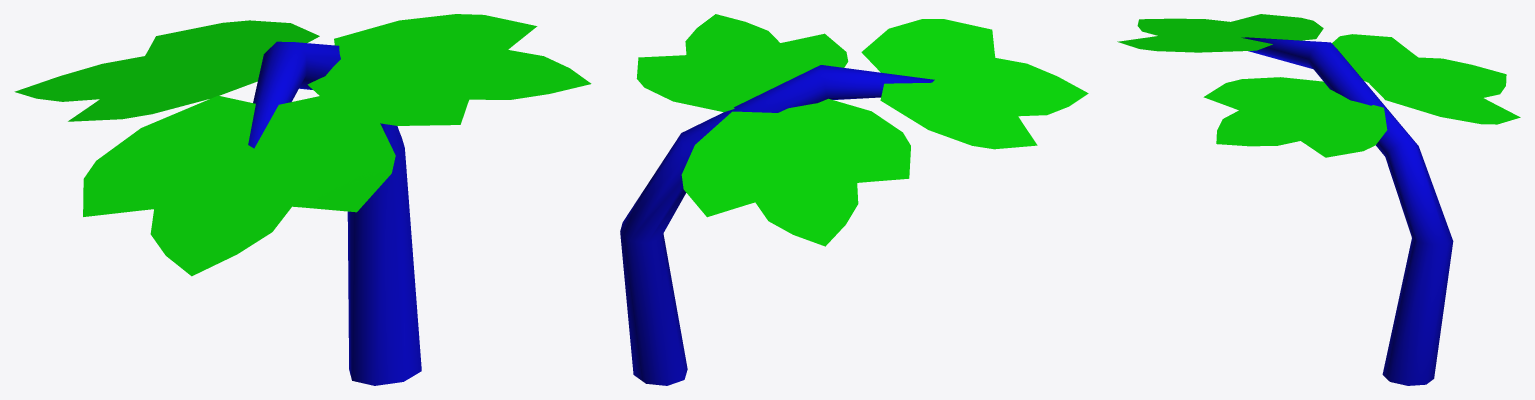
The model's file is Grapes_1.fbx.
3 views of the same model, side by side, from view 1: azimuth 30°, elevation 25°; view 2: azimuth 150°, elevation 25°; view 3: azimuth 270°, elevation 25° (orthographic). The views are drawn at different scales.
Parts seen in each view (by area): view 1: BSTC_Grapes_1; view 2: BSTC_Grapes_1; view 3: BSTC_Grapes_1.
Part boxes in pixels (<box>): BSTC_Grapes_1: <box>14,14,591,385</box>; BSTC_Grapes_1: <box>620,14,1088,385</box>; BSTC_Grapes_1: <box>1117,14,1520,385</box>.
Size of the model in its own units: 18.75 by 14.89 by 19.2.
